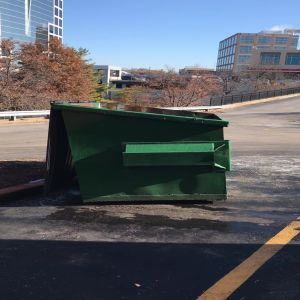Dumpster: (44, 98, 236, 203)
